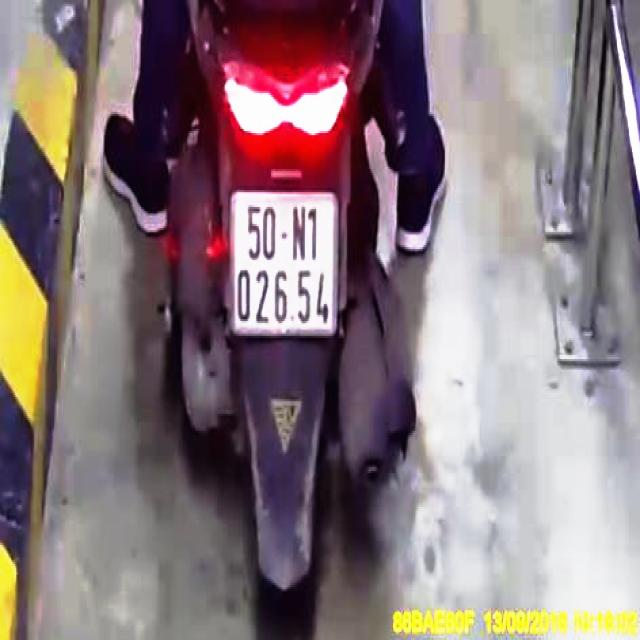license_plate: (234, 193, 340, 333)
